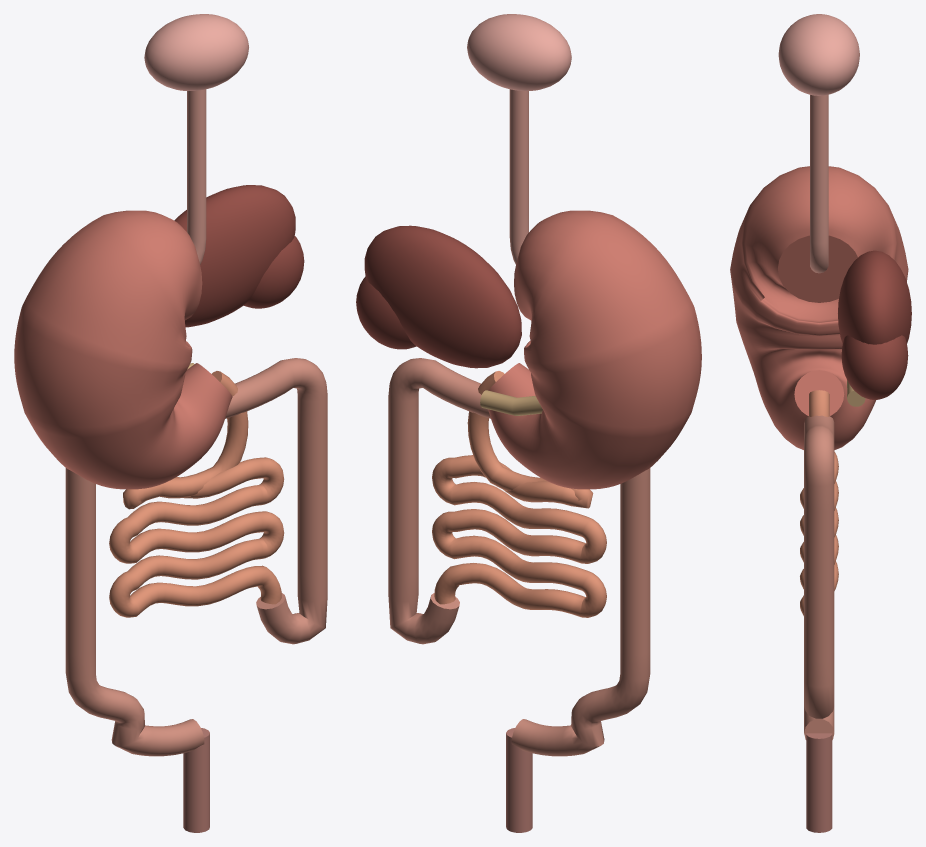
The model's file is verdauung.glb.
3 views of the same model, side by side, from view 1: azimuth 30°, elevation 25°; view 2: azimuth 150°, elevation 25°; view 3: azimuth 270°, elevation 25° (orthographic).
Parts seen in each view (by area): view 1: stomach, large_intestine, small_intestine, liver, mouth, esophagus, rectum, liver_lobe; view 2: stomach, large_intestine, small_intestine, liver, mouth, esophagus, rectum, liver_lobe, pancreas; view 3: stomach, large_intestine, liver, mouth, liver_lobe, esophagus, rectum, small_intestine.
Boxes of the visible parts, box(x1,y1,x2,y2) form: stomach: box(14, 210, 232, 489); large_intestine: box(65, 358, 327, 756); small_intestine: box(109, 371, 284, 617); liver: box(174, 185, 295, 327); mouth: box(144, 14, 248, 90); esophagus: box(187, 89, 206, 264); rectum: box(183, 728, 209, 832); liver_lobe: box(244, 236, 304, 308); stomach: box(488, 210, 701, 489); large_intestine: box(388, 358, 650, 756); small_intestine: box(432, 371, 606, 617); liver: box(364, 225, 521, 368); mouth: box(467, 14, 571, 90); esophagus: box(509, 89, 528, 264); rectum: box(506, 728, 532, 832); liver_lobe: box(356, 276, 416, 349); pancreas: box(480, 390, 542, 415); stomach: box(730, 166, 908, 450); large_intestine: box(804, 415, 834, 739); liver: box(838, 250, 911, 344); mouth: box(778, 14, 859, 95); liver_lobe: box(841, 335, 908, 399); esophagus: box(810, 95, 828, 273); rectum: box(806, 733, 832, 832); small_intestine: box(800, 390, 838, 615).
Size of the model in its own units: 1.88 by 4.8 by 0.9816.
